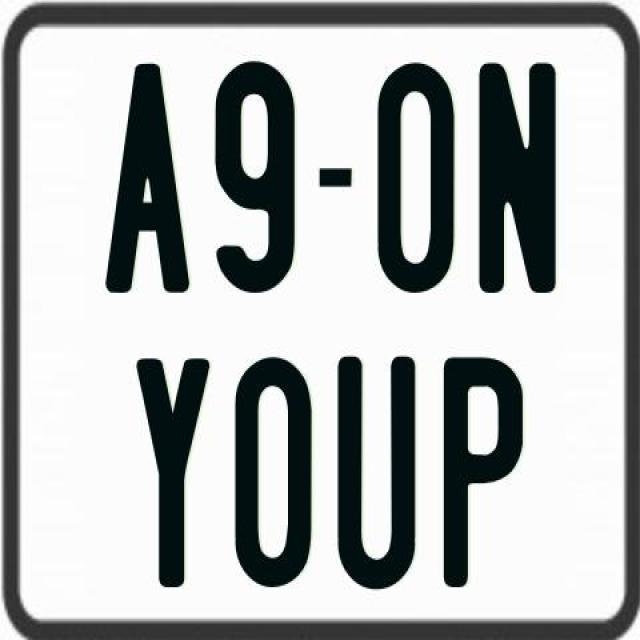0: (231, 353, 316, 584), (374, 59, 456, 290)
9: (214, 59, 300, 296)
A: (105, 64, 196, 293)
N: (476, 62, 555, 298)
P: (441, 354, 520, 594)
U: (338, 352, 418, 594)
Y: (134, 353, 207, 592)
